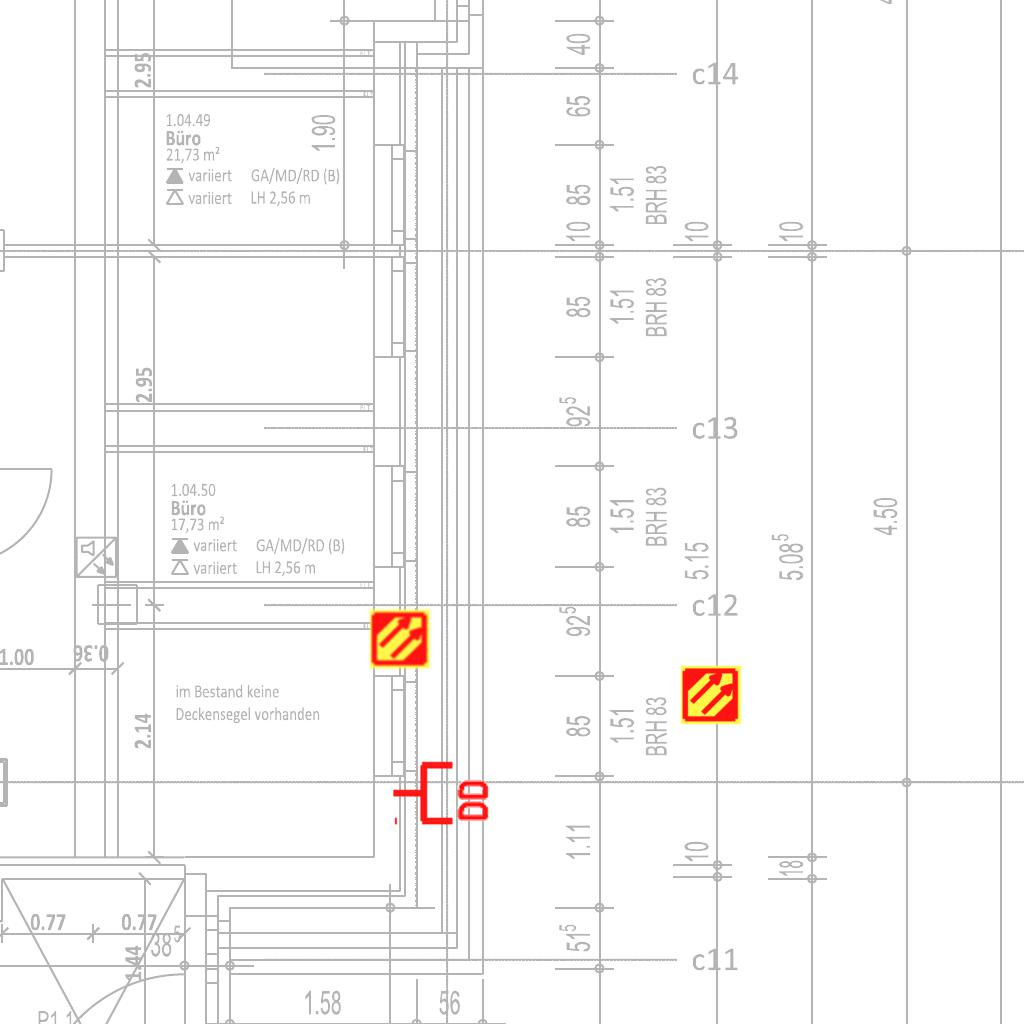ASR_Ansaugrauchmelder: (369, 608, 431, 670), (680, 664, 742, 726)
Datenanschluss_zweifach: (390, 757, 493, 826)
